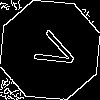V: (25, 25, 81, 75)
